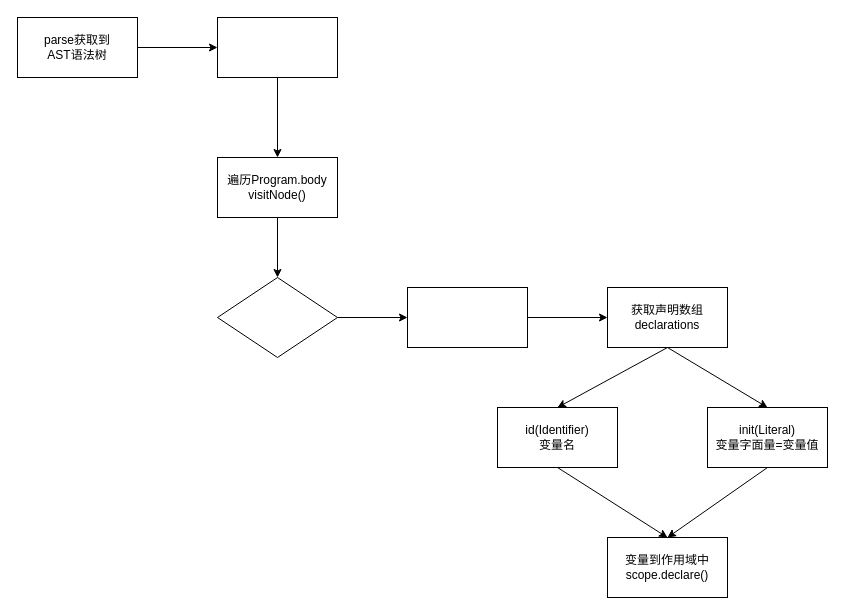
Image size: 845x615. Some labels were removed from this diagram. Each missing label, with the box of its shape:
VariableDeclaration 变量声明 kind=var: (406, 286, 528, 348)
创建全局作用域 GloablScope: (216, 16, 338, 78)
判断node.type: (216, 276, 338, 358)
